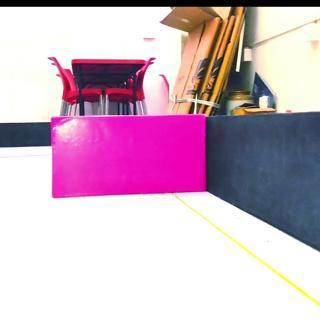xparking: (51, 114, 207, 197)
